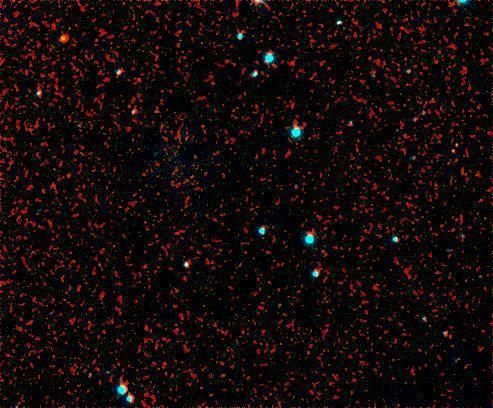star: (48, 24, 78, 54)
